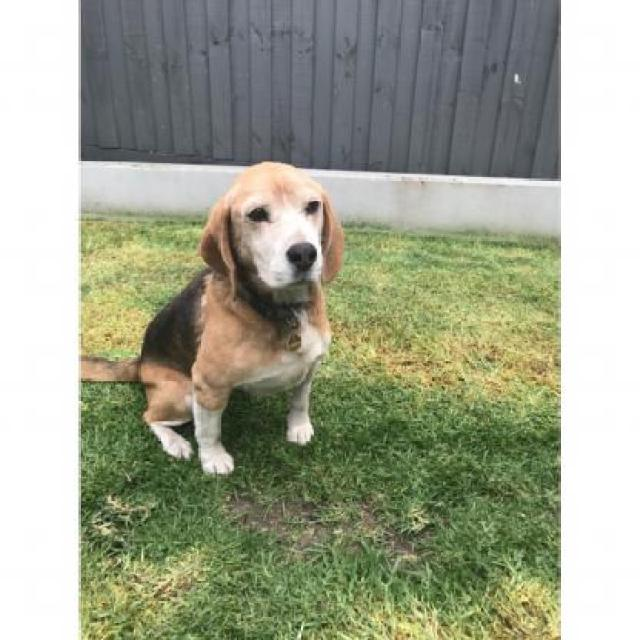Dog: (83, 154, 346, 477)
